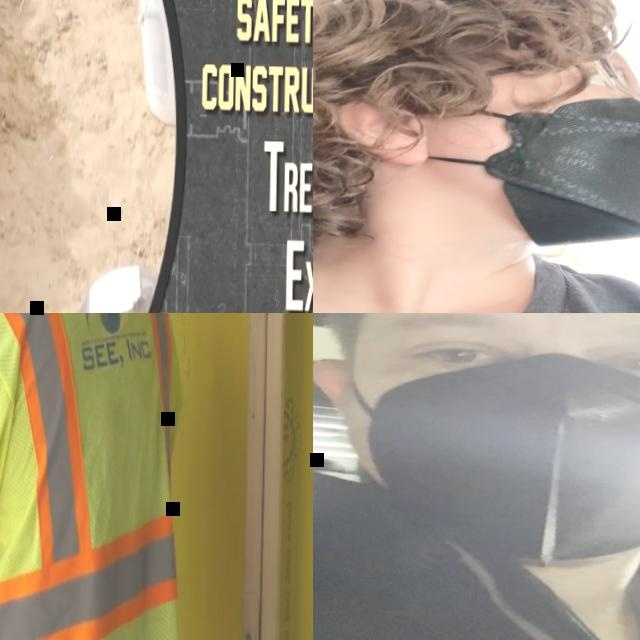Mask: (338, 364, 640, 568), (393, 94, 640, 248)
NO-Hardhat: (313, 0, 628, 74)
NO-Safety Vest: (313, 508, 640, 640)
Person: (313, 313, 640, 640), (313, 0, 640, 313), (0, 313, 191, 640)
Safety Vest: (0, 313, 184, 640)
